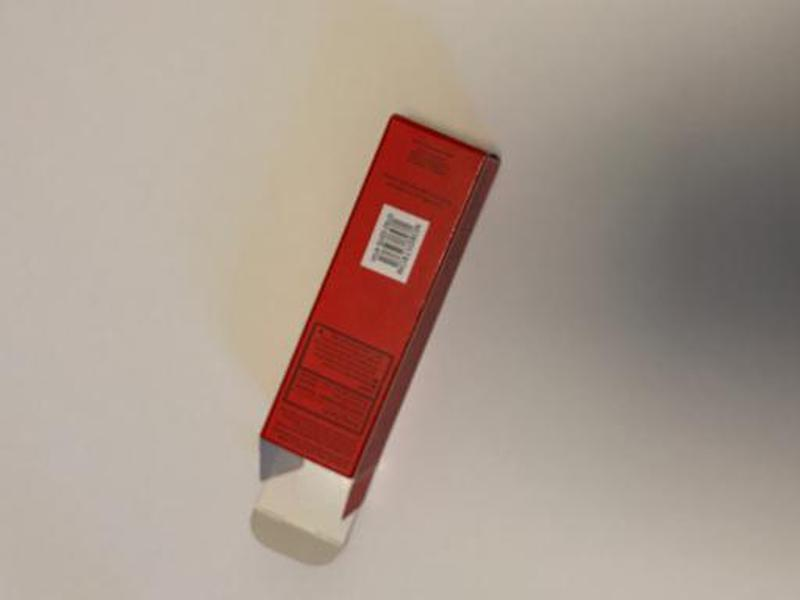cardboard: (236, 102, 507, 571)
